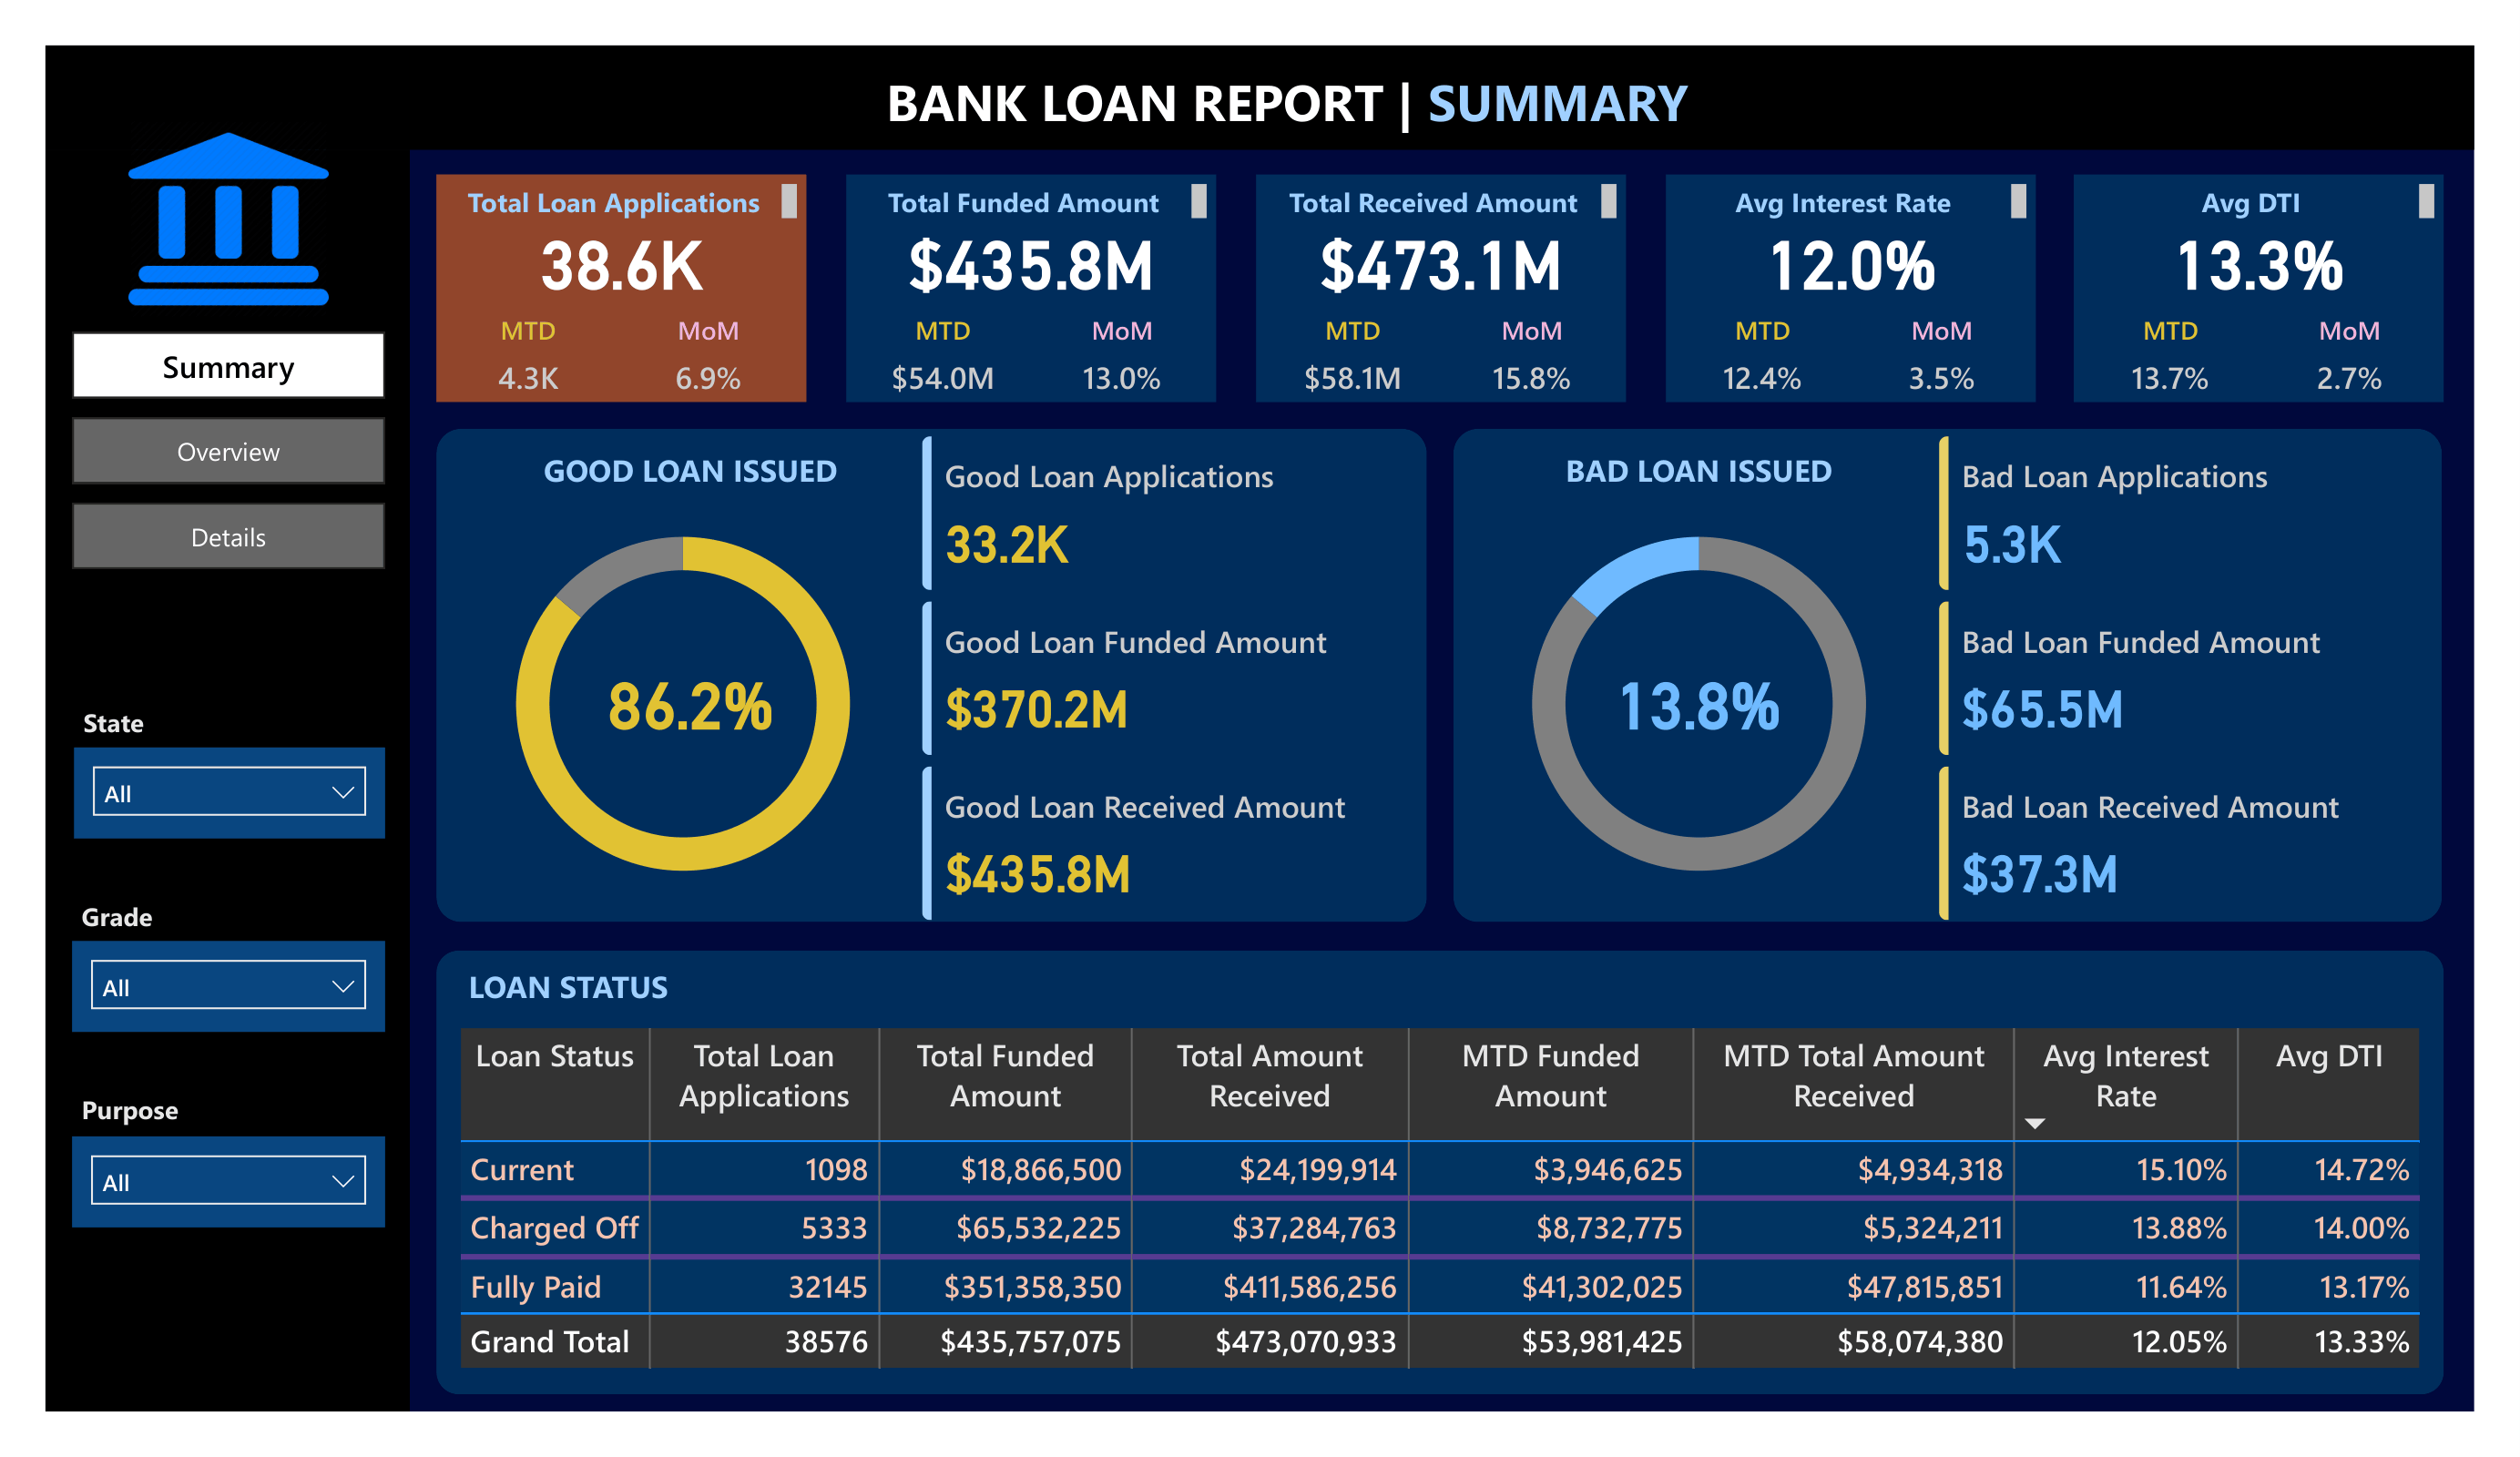

This screenshot's page, from the dashboard's own definition file:
{"tool":"powerbi","page":{"name":"Summary","canvas":[1280,720],"ordinal":0},"visuals":[{"type":"shape","box":[206,67.8,194.5,120],"z":0,"group":"g1"},{"type":"shape","box":[421.9,67.8,194.5,120],"z":0,"group":"g2"},{"type":"shape","box":[637.8,67.8,194.5,120],"z":0,"group":"g3"},{"type":"shape","box":[853.7,67.8,194.5,120],"z":0,"group":"g4"},{"type":"shape","box":[1069.3,67.8,194.5,120],"z":0,"group":"g5"},{"type":"shape","box":[206,476.6,1058.4,234.5],"z":0},{"type":"cardVisual","fields":{"Data":["New Measures.Total Loan Applications"]},"box":[206,91.3,194.5,46.1],"z":1000,"group":"g1"},{"type":"cardVisual","fields":{"Data":["New Measures.Total Funded Amount"]},"box":[421.9,91.3,194.5,46.1],"z":1000,"group":"g2"},{"type":"cardVisual","fields":{"Data":["New Measures.Total Amount Received"]},"box":[637.8,91.3,194.5,46.1],"z":1000,"group":"g3"},{"type":"cardVisual","fields":{"Data":["New Measures.Avg Interest Rate"]},"box":[853.7,91.3,194.5,46.1],"z":1000,"group":"g4"},{"type":"cardVisual","fields":{"Data":["New Measures.Avg DTI"]},"box":[1069.3,91.3,194.5,46.1],"z":1000,"group":"g5"},{"type":"shape","box":[205.9,202.4,522,260],"z":1000},{"type":"textbox","box":[206,67.8,194.5,28.2],"z":2000,"group":"g1"},{"type":"textbox","box":[421.9,67.8,194.5,28.2],"z":2000,"group":"g2"},{"type":"textbox","box":[637.8,67.8,194.5,28.2],"z":2000,"group":"g3"},{"type":"textbox","box":[853.7,67.8,194.5,28.2],"z":2000,"group":"g4"},{"type":"textbox","box":[1069.3,67.8,194.5,28.2],"z":2000,"group":"g5"},{"type":"cardVisual","fields":{"Data":["New Measures.Good Loan %"]},"box":[272.5,324,134.5,45.6],"z":2000},{"type":"cardVisual","title":"MTD","fields":{"Data":["New Measures.MTD Loan Applications"]},"box":[223.9,140.7,61.4,47.3],"z":3000,"group":"g1"},{"type":"cardVisual","title":"MTD","fields":{"Data":["New Measures.MTD Funded Amount"]},"box":[439.8,140.7,66.5,47.3],"z":3000,"group":"g2"},{"type":"cardVisual","title":"MTD","fields":{"Data":["New Measures.MTD Total Amount Received"]},"box":[655.7,140.7,66.5,47.3],"z":3000,"group":"g3"},{"type":"cardVisual","title":"MTD","fields":{"Data":["New Measures.MTD Interest Rate"]},"box":[871.6,140.7,66.5,47.3],"z":3000,"group":"g4"},{"type":"cardVisual","title":"MTD","fields":{"Data":["New Measures.MTD Avg DTI"]},"box":[1087.2,140.7,66.5,47.3],"z":3000,"group":"g5"},{"type":"donutChart","fields":{"Category":["bank_loan_data.Good vs Bad Loan"],"Y":["New Measures.Total Loan Applications"]},"box":[210.5,231.6,250.3,230.4],"z":3000},{"type":"shape","box":[0,0,1279.6,55],"z":4000},{"type":"cardVisual","title":"MoM","fields":{"Data":["New Measures.MoM Loan Applications"]},"box":[318.6,140.7,61.4,47.3],"z":4000,"group":"g1"},{"type":"cardVisual","title":"MoM","fields":{"Data":["New Measures.MoM Total Funded Amount"]},"box":[534.5,140.7,65,47.3],"z":4000,"group":"g2"},{"type":"cardVisual","title":"MoM","fields":{"Data":["New Measures.MoM Total Amount Received"]},"box":[750.4,140.7,65,47.3],"z":4000,"group":"g3"},{"type":"cardVisual","title":"MoM","fields":{"Data":["New Measures.MoM Avg Interest Rate"]},"box":[966.3,140.7,65,47.3],"z":4000,"group":"g4"},{"type":"cardVisual","title":"MoM","fields":{"Data":["New Measures.MoM Avg DTI"]},"box":[1181.9,140.7,65,47.3],"z":4000,"group":"g5"},{"type":"textbox","box":[243.3,208.2,194.2,31.6],"z":5000},{"type":"shape","box":[0,55,192,665.4],"z":6000},{"type":"textbox","box":[437.6,5.7,443.3,49.1],"z":7000},{"type":"group","id":"g1","title":"Group 1","box":[206,67.8,194.5,120.3],"z":8000},{"type":"group","id":"g2","title":"Group 1","box":[421.9,67.8,194.5,120.3],"z":9000},{"type":"group","id":"g3","title":"Group 1","box":[637.8,67.8,194.5,120.3],"z":10000},{"type":"group","id":"g4","title":"Group 1","box":[853.7,67.8,194.2,119.3],"z":11000},{"type":"group","id":"g5","title":"Group 1","box":[1069.3,67.8,194.2,119.3],"z":12000},{"type":"shape","box":[741.6,202.4,521.7,259.7],"z":13000},{"type":"cardVisual","fields":{"Data":["New Measures.Good Loan Applications","New Measures.Good Loan Funded Amount","New Measures.Good Loan Received Amount"]},"box":[457.4,205.9,266.7,255],"z":14000},{"type":"textbox","box":[774.4,208.2,194.2,31.6],"z":15000},{"type":"cardVisual","fields":{"Data":["New Measures.Bad Loan %"]},"box":[803.6,324,134.5,45.6],"z":16000},{"type":"donutChart","fields":{"Category":["bank_loan_data.Good vs Bad Loan"],"Y":["New Measures.Total Loan Applications"]},"box":[746.3,231.6,250.3,230.4],"z":17000},{"type":"cardVisual","fields":{"Data":["New Measures.Bad Loan Applications","New Measures.Bad Loan Funded Amount","New Measures.Bad Loan Received Amount"]},"box":[993.1,205.9,266.7,255],"z":18000},{"type":"tableEx","fields":{"Values":["bank_loan_data.loan_status","New Measures.Total Loan Applications","New Measures.Total Funded Amount","New Measures.Total Amount Received","New Measures.MTD Funded Amount","New Measures.MTD Total Amount Received","New Measures.Avg Interest Rate","New Measures.Avg DTI"]},"box":[212.5,513,1044.3,203.4],"z":19000},{"type":"textbox","box":[218.2,479.9,187.4,32],"z":20000},{"type":"slicer","fields":{"Values":["bank_loan_data.address_state"]},"box":[14.8,370.4,164.5,48],"z":21000},{"type":"textbox","box":[14.8,342.9,82.3,32],"z":22000},{"type":"slicer","fields":{"Values":["bank_loan_data.grade"]},"box":[14.2,472.4,164.5,48],"z":23000},{"type":"textbox","box":[14.2,445,82.3,32],"z":24000},{"type":"slicer","fields":{"Values":["bank_loan_data.purpose"]},"box":[14.2,575.2,164.5,48],"z":25000},{"type":"textbox","box":[14.2,546.6,82.3,32],"z":26000},{"type":"image","box":[43.8,30.6,105.2,120.5],"z":27000},{"type":"pageNavigator","box":[14.2,151.1,164.3,126],"z":28000}]}

Visuals, with their boxes on the page's 1280x720 design canvas (x1, y1, x2, y2). These are canvas units, not pixel positions in the 2520x1457 screenshot, which may show the page scaled, cropped or inside an application window:
shape: (206, 68, 400, 188)
shape: (422, 68, 616, 188)
shape: (638, 68, 832, 188)
shape: (854, 68, 1048, 188)
shape: (1069, 68, 1264, 188)
shape: (206, 477, 1264, 711)
cardVisual - New Measures.Total Loan Applications: (206, 91, 400, 137)
cardVisual - New Measures.Total Funded Amount: (422, 91, 616, 137)
cardVisual - New Measures.Total Amount Received: (638, 91, 832, 137)
cardVisual - New Measures.Avg Interest Rate: (854, 91, 1048, 137)
cardVisual - New Measures.Avg DTI: (1069, 91, 1264, 137)
shape: (206, 202, 728, 462)
textbox: (206, 68, 400, 96)
textbox: (422, 68, 616, 96)
textbox: (638, 68, 832, 96)
textbox: (854, 68, 1048, 96)
textbox: (1069, 68, 1264, 96)
cardVisual - New Measures.Good Loan %: (272, 324, 407, 370)
"MTD" cardVisual: (224, 141, 285, 188)
"MTD" cardVisual: (440, 141, 506, 188)
"MTD" cardVisual: (656, 141, 722, 188)
"MTD" cardVisual: (872, 141, 938, 188)
"MTD" cardVisual: (1087, 141, 1154, 188)
donutChart - bank_loan_data.Good vs Bad Loan x New Measures.Total Loan Applications: (210, 232, 461, 462)
shape: (0, 0, 1280, 55)
"MoM" cardVisual: (319, 141, 380, 188)
"MoM" cardVisual: (534, 141, 600, 188)
"MoM" cardVisual: (750, 141, 815, 188)
"MoM" cardVisual: (966, 141, 1031, 188)
"MoM" cardVisual: (1182, 141, 1247, 188)
textbox: (243, 208, 438, 240)
shape: (0, 55, 192, 720)
textbox: (438, 6, 881, 55)
"Group 1" group: (206, 68, 400, 188)
"Group 1" group: (422, 68, 616, 188)
"Group 1" group: (638, 68, 832, 188)
"Group 1" group: (854, 68, 1048, 187)
"Group 1" group: (1069, 68, 1264, 187)
shape: (742, 202, 1263, 462)
cardVisual - New Measures.Good Loan Applications x New Measures.Good Loan Funded Amount: (457, 206, 724, 461)
textbox: (774, 208, 969, 240)
cardVisual - New Measures.Bad Loan %: (804, 324, 938, 370)
donutChart - bank_loan_data.Good vs Bad Loan x New Measures.Total Loan Applications: (746, 232, 997, 462)
cardVisual - New Measures.Bad Loan Applications x New Measures.Bad Loan Funded Amount: (993, 206, 1260, 461)
tableEx - bank_loan_data.loan_status x New Measures.Total Loan Applications: (212, 513, 1257, 716)
textbox: (218, 480, 406, 512)
slicer - bank_loan_data.address_state: (15, 370, 179, 418)
textbox: (15, 343, 97, 375)
slicer - bank_loan_data.grade: (14, 472, 179, 520)
textbox: (14, 445, 96, 477)
slicer - bank_loan_data.purpose: (14, 575, 179, 623)
textbox: (14, 547, 96, 579)
image: (44, 31, 149, 151)
pageNavigator: (14, 151, 178, 277)
